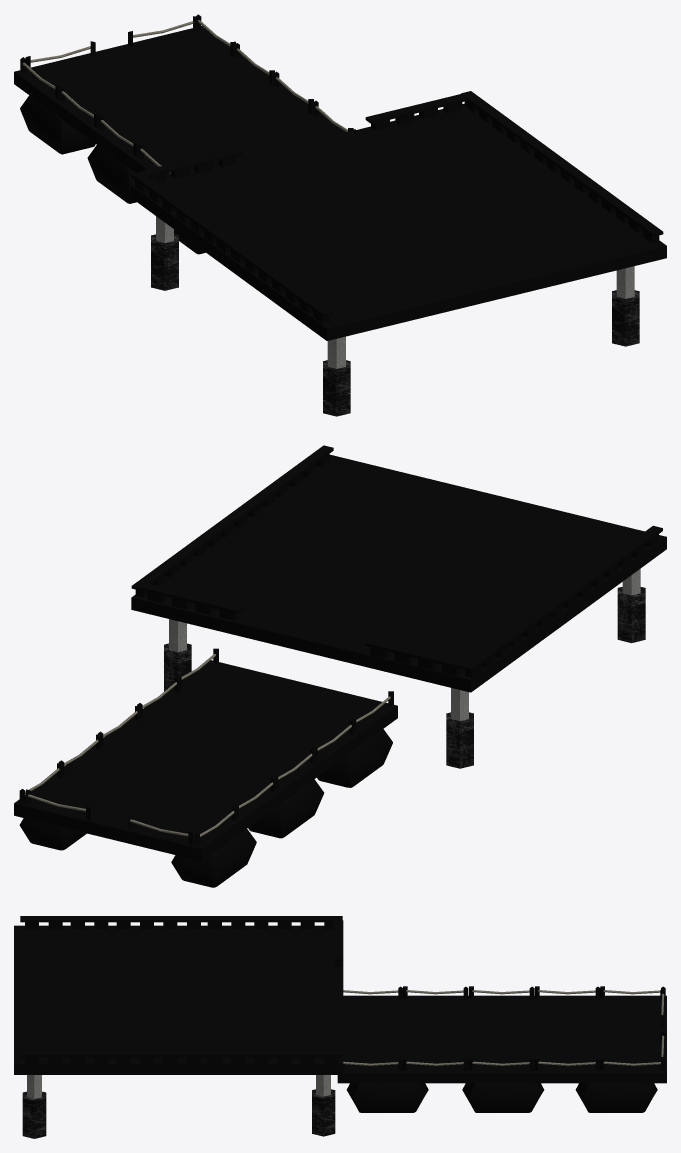
File: platforms voor sonic.fbx
3 renders of one model, top to bottom at view 1: azimuth 30°, elevation 25°; view 2: azimuth 150°, elevation 25°; view 3: azimuth 270°, elevation 25°, orthographic. The views are drawn at different scales.
Parts seen in each view (by area): view 1: pCube1, pasted__pasted__pCube1, pasted__pasted__pCylinder1 (×2), pasted__pasted__pasted__pasted__pCube1, pasted__pasted__pasted__pCube1, pasted__pCylinder1; view 2: pCube1, pasted__pasted__pCube1 (×2), pasted__pasted__pasted__pasted__pCube1, pasted__pasted__pCylinder1 (×2), pasted__pasted__pasted__pCube1, pasted__pCylinder1, pasted__pasted__pasted__pasted__pasted__pCube1; view 3: pCube1, pasted__pasted__pCube1, pasted__pasted__pasted__pCube1, pasted__pasted__pasted__pasted__pCube1, pasted__pasted__pasted__pasted__pasted__pCube1, pasted__pasted__pCylinder1 (×2), pasted__pasted__pasted__pCylinder1.
Part boxes in pixels (bbox=[...]): pCube1: bbox=[130, 103, 666, 340]; pasted__pasted__pCube1: bbox=[14, 26, 346, 176]; pasted__pasted__pCylinder1 (×2): bbox=[323, 290, 639, 416]; pasted__pasted__pasted__pasted__pCube1: bbox=[20, 95, 95, 154]; pasted__pasted__pasted__pCube1: bbox=[87, 145, 136, 203]; pasted__pCylinder1: bbox=[151, 234, 178, 290]; pCube1: bbox=[131, 454, 666, 692]; pasted__pasted__pCube1 (×2): bbox=[14, 660, 397, 861]; pasted__pasted__pasted__pasted__pCube1: bbox=[171, 829, 256, 887]; pasted__pasted__pCylinder1 (×2): bbox=[164, 587, 645, 691]; pasted__pasted__pasted__pCube1: bbox=[248, 779, 324, 838]; pasted__pCylinder1: bbox=[446, 712, 473, 768]; pasted__pasted__pasted__pasted__pasted__pCube1: bbox=[19, 818, 86, 850]; pCube1: bbox=[14, 925, 343, 1074]; pasted__pasted__pCube1: bbox=[337, 995, 666, 1083]; pasted__pasted__pasted__pCube1: bbox=[346, 1083, 428, 1112]; pasted__pasted__pasted__pasted__pCube1: bbox=[462, 1083, 544, 1112]; pasted__pasted__pasted__pasted__pasted__pCube1: bbox=[575, 1083, 657, 1112]; pasted__pasted__pCylinder1 (×2): bbox=[22, 1089, 335, 1138]; pasted__pasted__pasted__pCylinder1: bbox=[27, 1075, 41, 1098].
Size of the model in its own units: 8.65 by 2.61 by 17.16.
